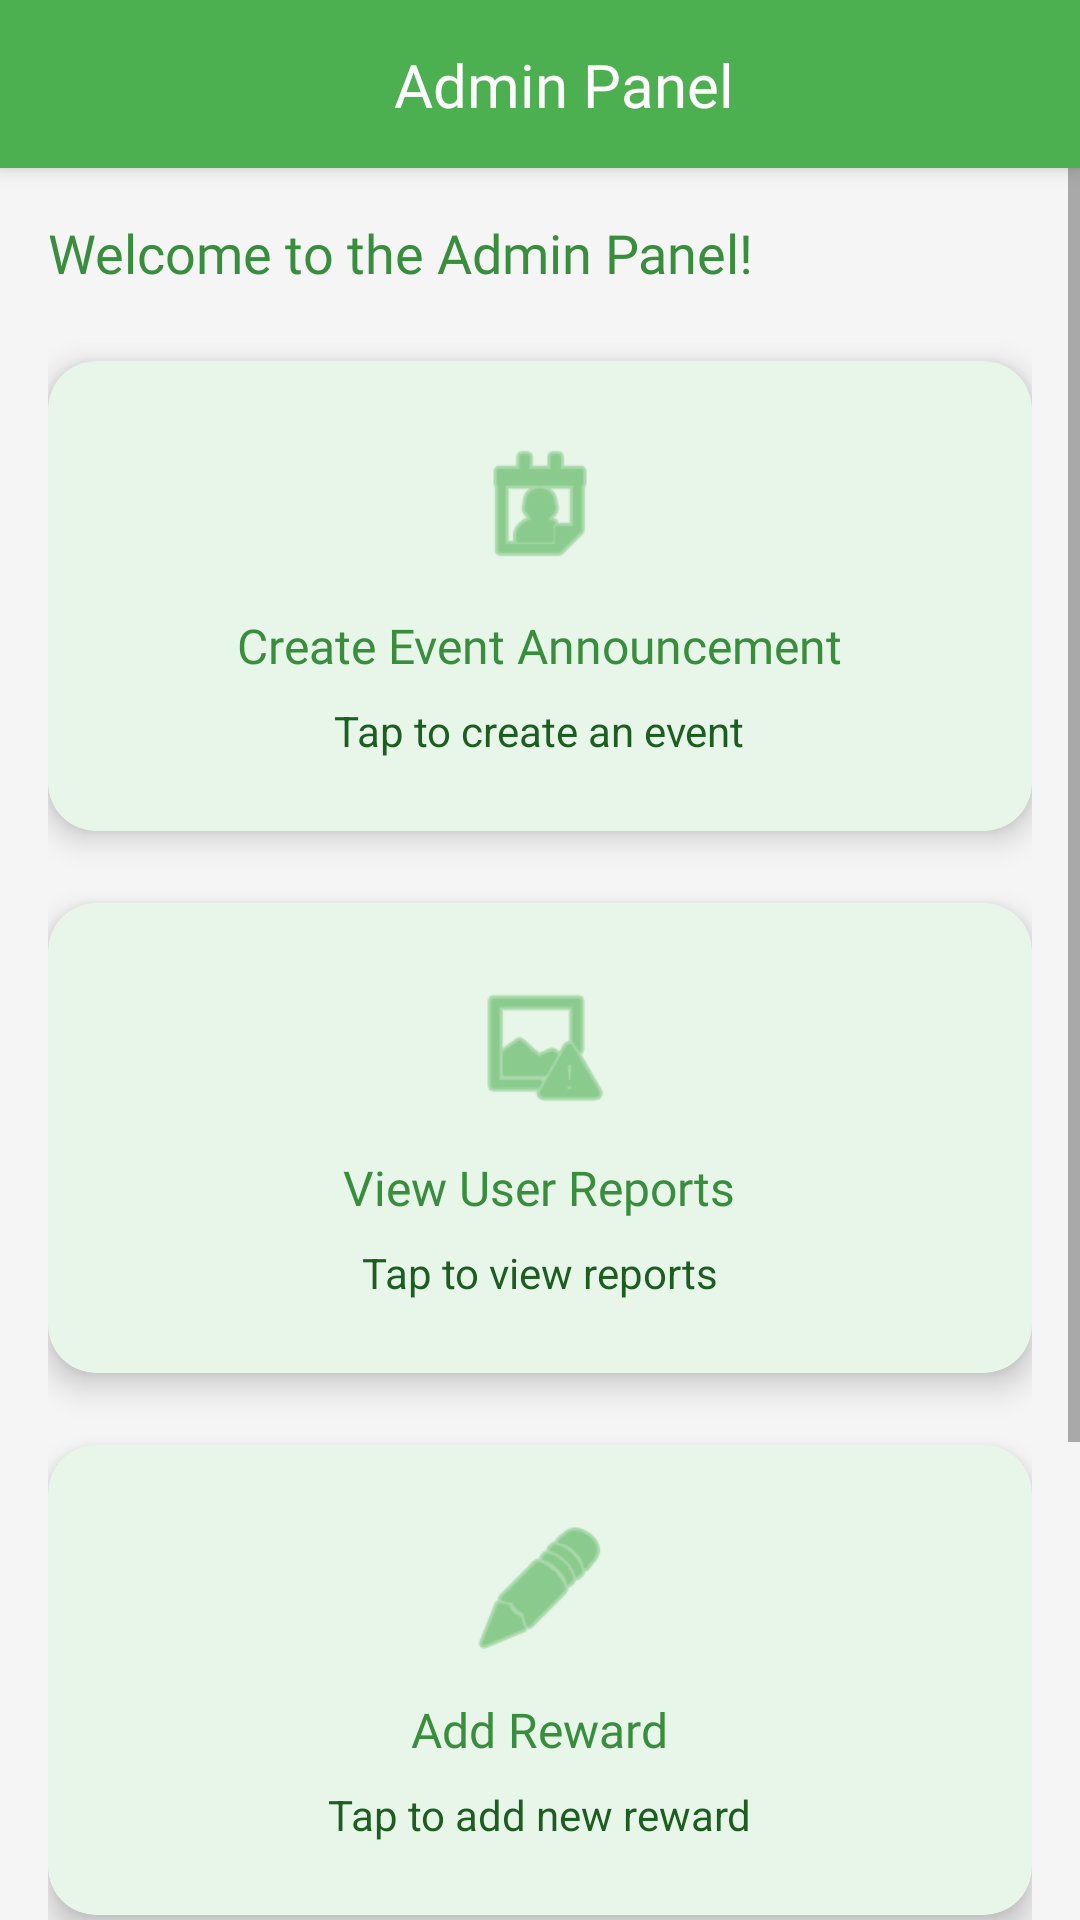

Screen size 1080x1920. Icon name, then its box in pixels as detection(x1, y1, x2, y2):
calendar: detection(493, 451, 587, 556)
edit: detection(479, 1527, 600, 1649)
